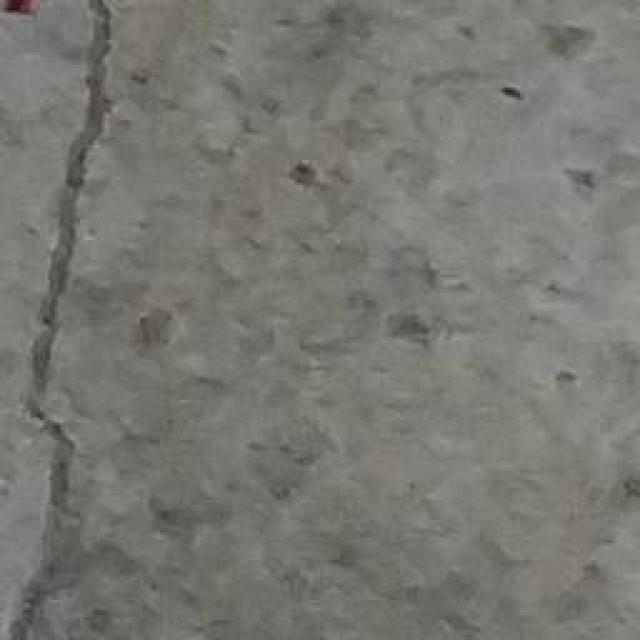Longitudinal: (7, 0, 123, 640)
Rippled: (129, 0, 640, 640)
